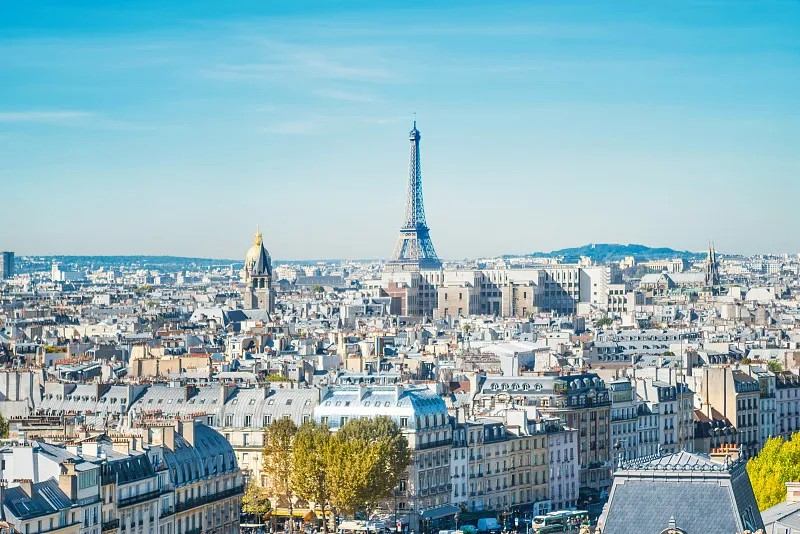Eiffel: (384, 112, 442, 270)
